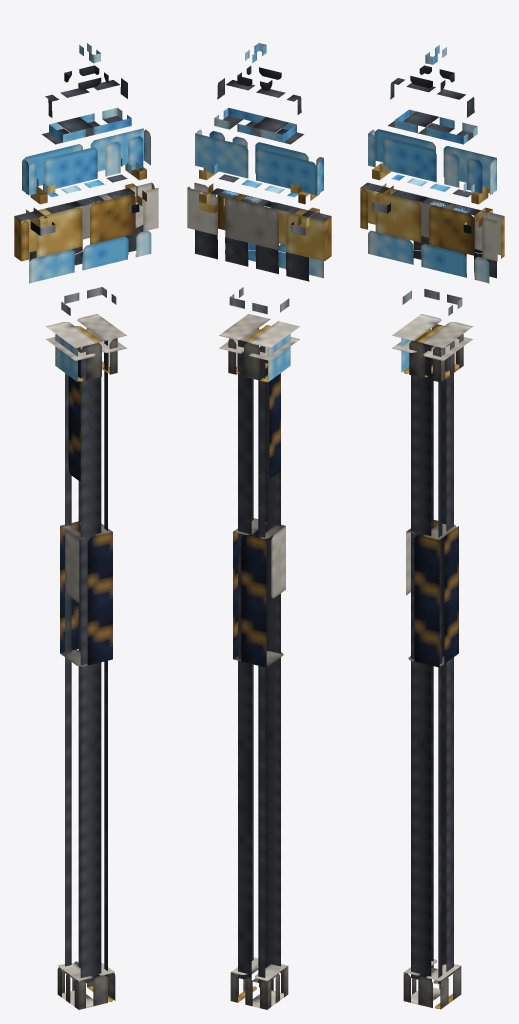
File: faceless_lance.obj
3 views of the same model, side by side, from view 1: azimuth 30°, elevation 25°; view 2: azimuth 150°, elevation 25°; view 3: azimuth 330°, elevation 25° (orthographic).
Visible parts, largest first — view 1: lit, fire; view 2: lit, fire; view 3: lit, fire.
Part boxes in pixels (x1,y1,x2,y2): lit: (14, 43, 158, 1009); fire: (47, 174, 127, 211); lit: (187, 43, 331, 1009); fire: (218, 174, 298, 210); lit: (360, 45, 504, 1009); fire: (391, 174, 471, 213).
Size of the model in its own units: 0.5625 by 3.84 by 0.2125.
